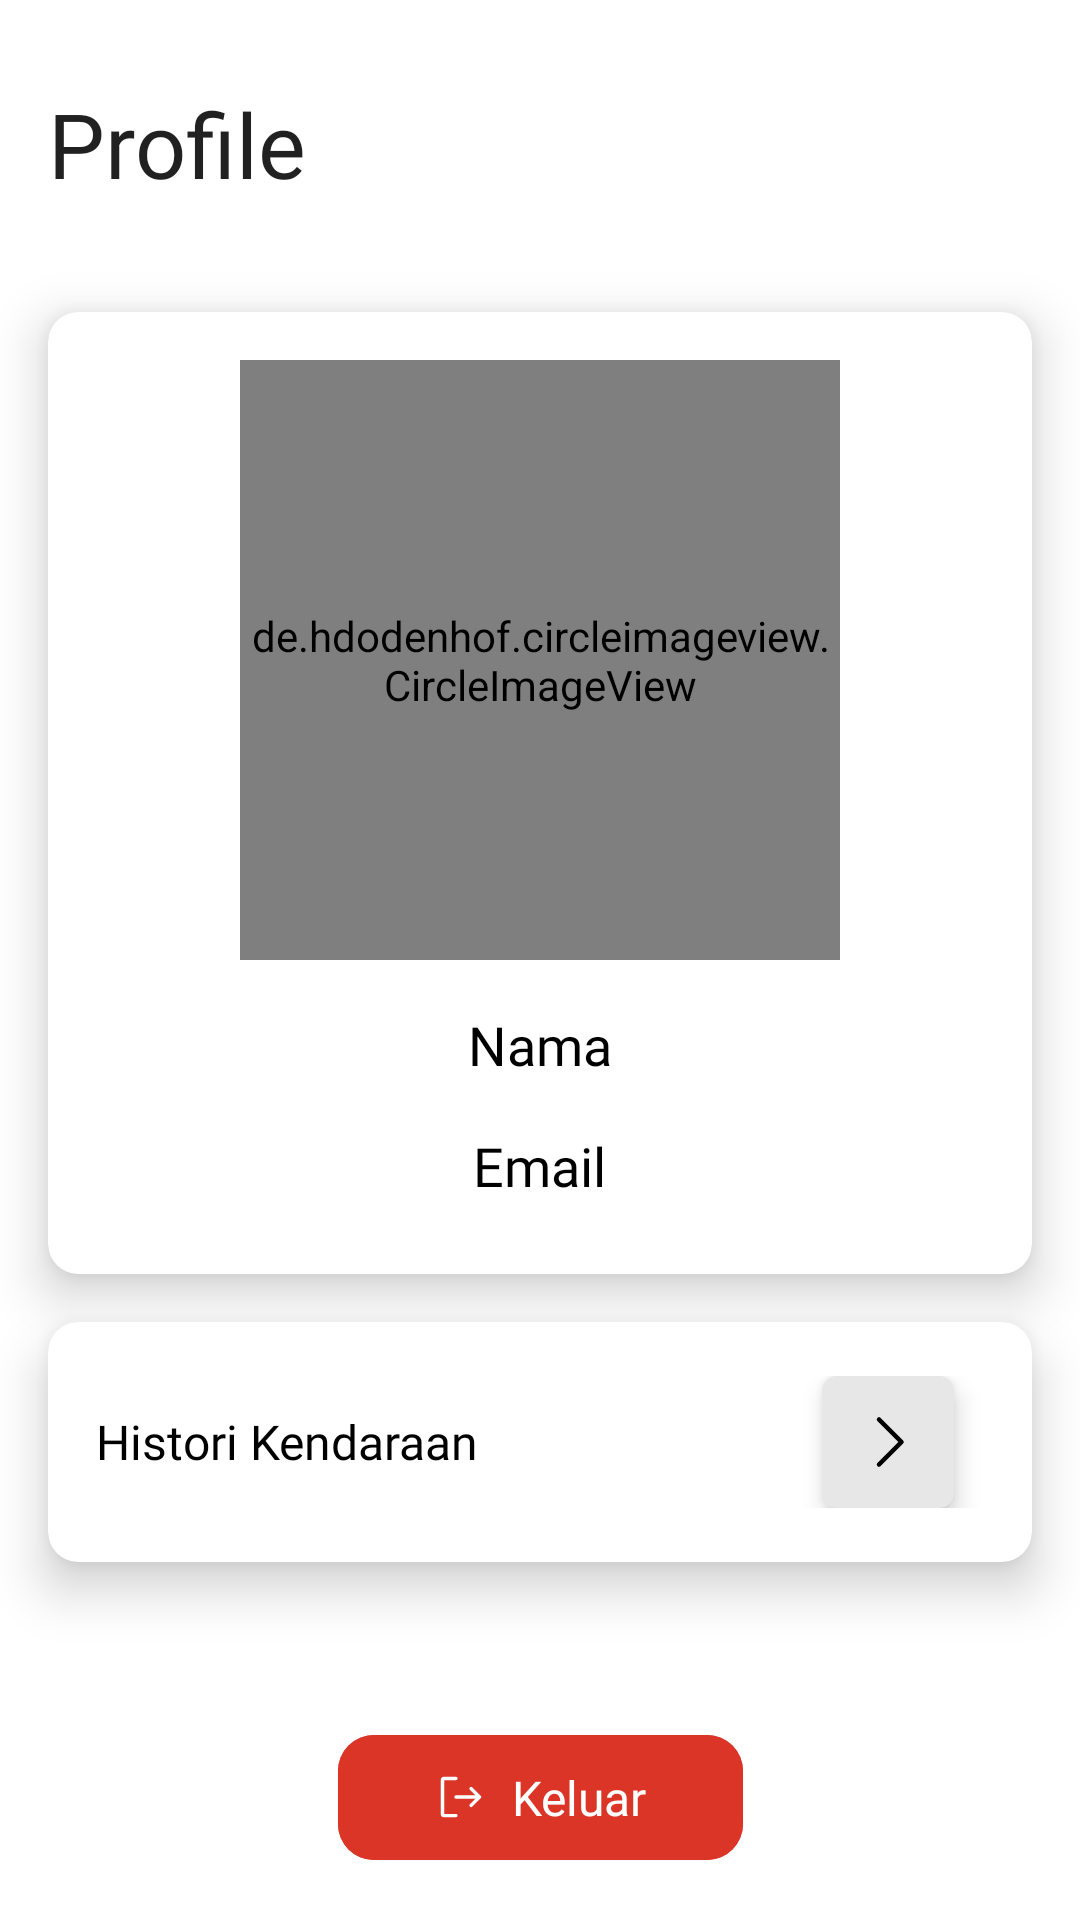

Screen size 1080w x 1920h. Icon name, then its box in pixels as {"x1": x1, "y1": y1, "x2": x2, "y2": y2}:
caret right: {"x1": 822, "y1": 1376, "x2": 954, "y2": 1508}
